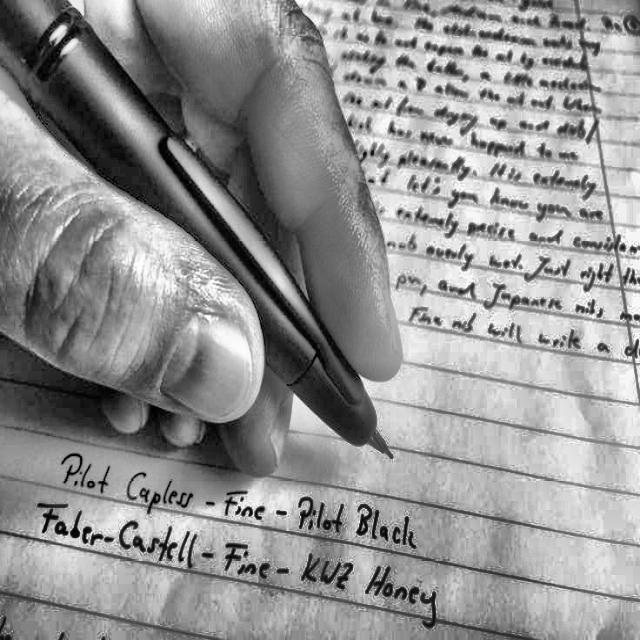Pen: (0, 0, 382, 449)
